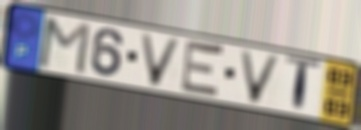6: (90, 27, 126, 79)
E: (178, 36, 227, 102)
M: (35, 15, 93, 78)
T: (283, 53, 324, 116)
V: (138, 31, 185, 89), (237, 48, 284, 106)
